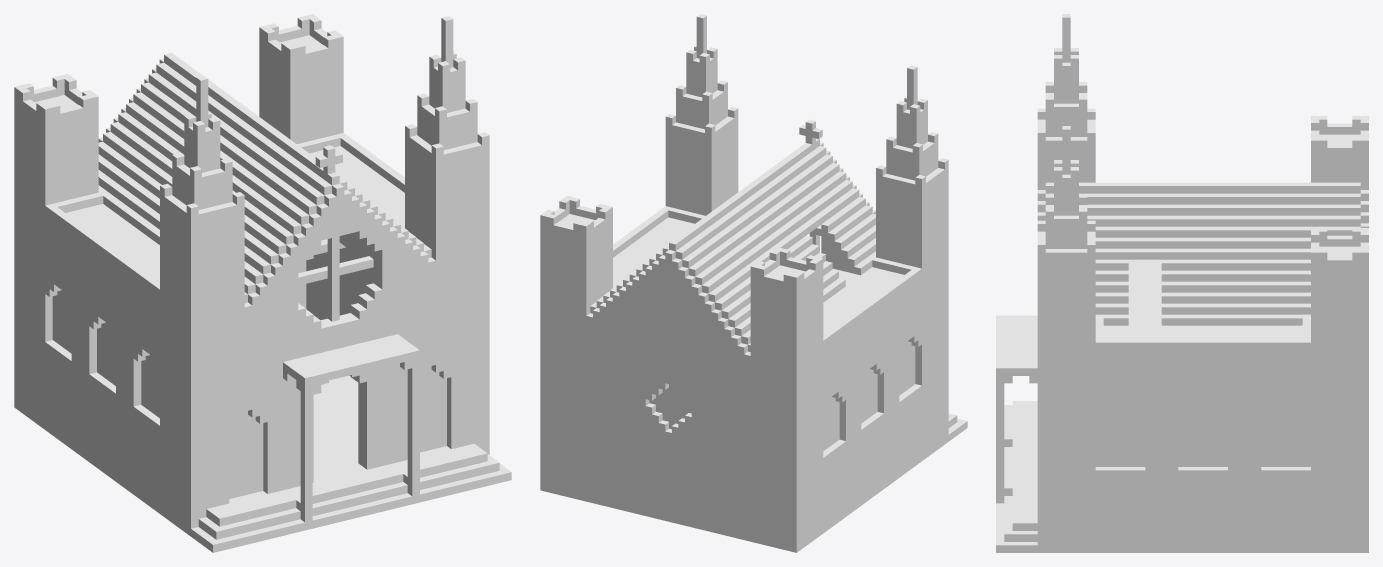
File: church.obj
3 renders of one model, left to right at view 1: azimuth 30°, elevation 25°; view 2: azimuth 150°, elevation 25°; view 3: azimuth 270°, elevation 25°, orthographic. The views are drawn at different scales.
Parts seen in each view (by area): view 1: church; view 2: church; view 3: church.
Part boxes in pixels (<box>): church: <box>14,14,511,552</box>; church: <box>540,14,967,552</box>; church: <box>996,14,1368,552</box>.
Bounding box in the file's own units: 39 × 55 × 45.
Materials: 1 (1 with a texture image).
